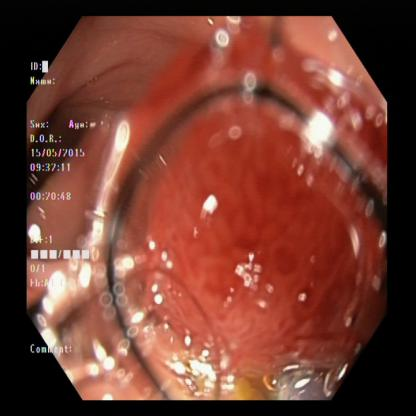Polyps: (190, 155, 333, 336)
